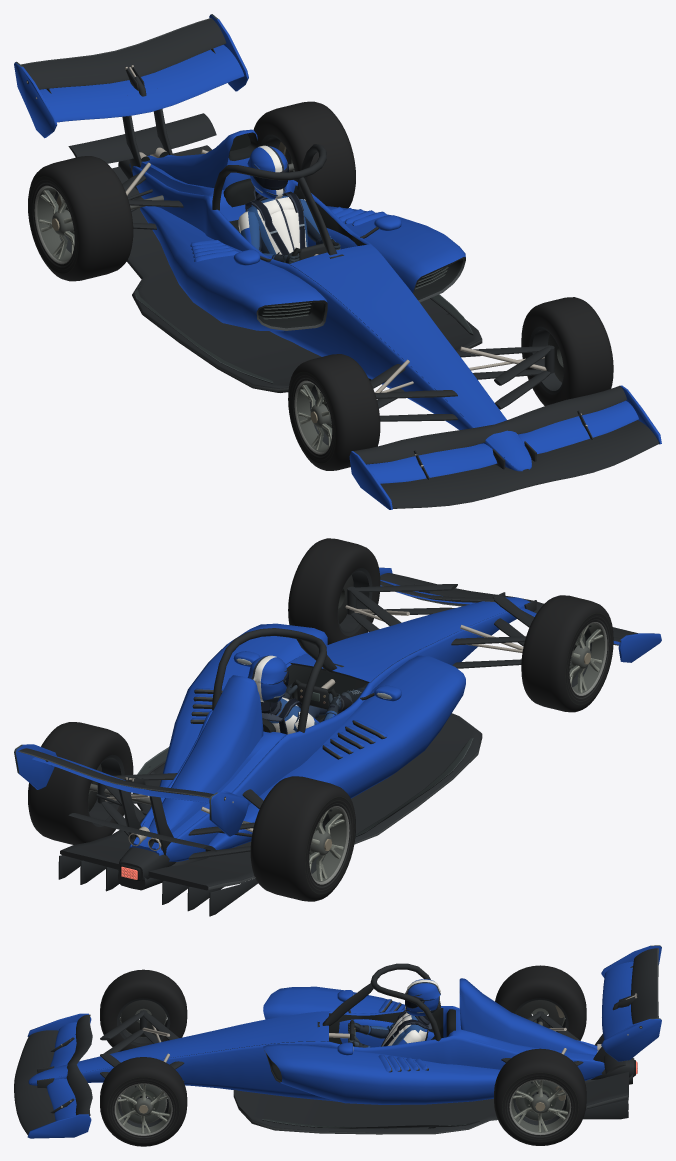
Rendered from formula_real.glb.
3 renders of one model, top to bottom at view 1: azimuth 30°, elevation 25°; view 2: azimuth 150°, elevation 25°; view 3: azimuth 270°, elevation 25°, orthographic. The views are drawn at different scales.
Visible parts, largest first — view 1: body, wheelRR, wheelFR, wheelFL, wheelRL, torso, head; view 2: body, wheelRR, wheelFR, wheelRL, wheelFL, head, torso, steeringWheel; view 3: body, wheelRL, wheelFL, wheelFR, wheelRR, head, torso.
Part boxes in pixels (x1=…): body: x1=14, y1=14, x2=661, y2=509; wheelRR: x1=28, y1=156, x2=133, y2=281; wheelFR: x1=288, y1=354, x2=380, y2=470; wheelFL: x1=521, y1=297, x2=613, y2=405; wheelRL: x1=253, y1=101, x2=355, y2=208; torso: x1=245, y1=188, x2=308, y2=254; head: x1=247, y1=145, x2=288, y2=199; body: x1=14, y1=567, x2=661, y2=916; wheelRR: x1=250, y1=776, x2=355, y2=901; wheelFR: x1=521, y1=595, x2=613, y2=712; wheelRL: x1=28, y1=722, x2=133, y2=844; wheelFL: x1=288, y1=538, x2=380, y2=644; head: x1=247, y1=655, x2=288, y2=702; torso: x1=260, y1=697, x2=301, y2=734; steeringWheel: x1=292, y1=679, x2=337, y2=709; body: x1=14, y1=945, x2=661, y2=1138; wheelRL: x1=494, y1=1048, x2=586, y2=1145; wheelFL: x1=100, y1=1057, x2=187, y2=1146; wheelFR: x1=100, y1=969, x2=187, y2=1051; wheelRR: x1=495, y1=965, x2=586, y2=1040; head: x1=405, y1=979, x2=440, y2=1016; torso: x1=381, y1=1010, x2=432, y2=1046.
Size of the model in its own units: 1.85 by 1 by 4.9.
